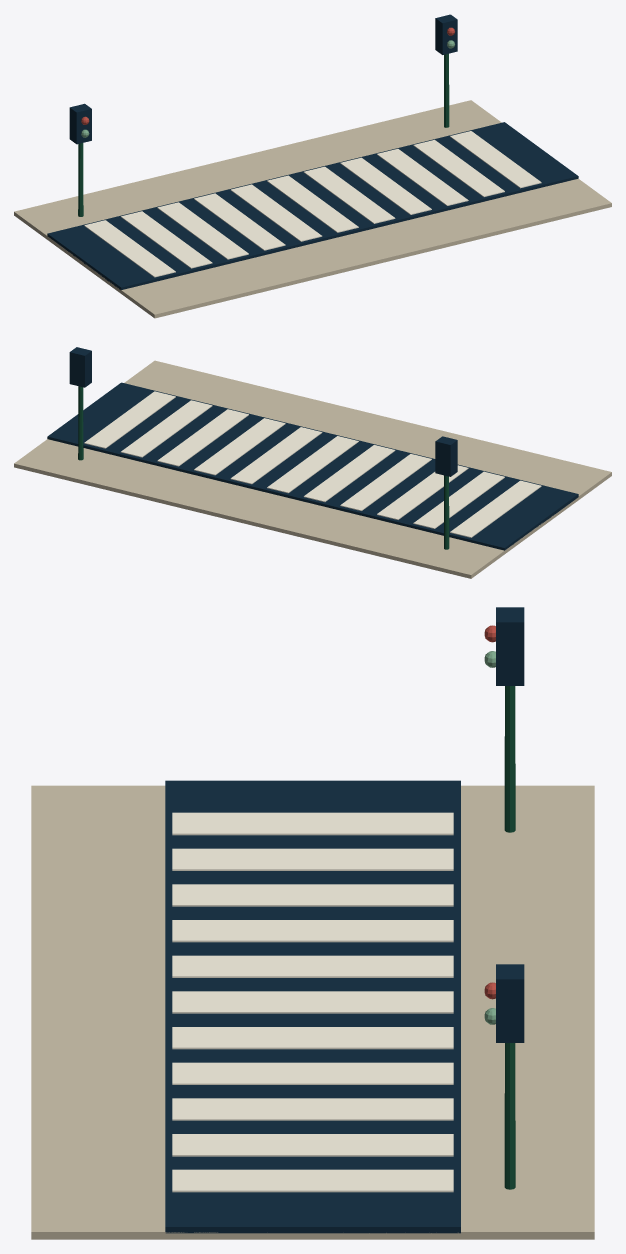
The model's file is crosswalk.glb.
3 views of the same model, one above another, from view 1: azimuth 30°, elevation 25°; view 2: azimuth 150°, elevation 25°; view 3: azimuth 270°, elevation 25° (orthographic). The views are drawn at different scales.
Visible parts, largest first — view 1: CrosswalkMesh; view 2: CrosswalkMesh; view 3: CrosswalkMesh.
Boxes of the visible parts, <box> form: CrosswalkMesh: <box>14,14,611,318</box>; CrosswalkMesh: <box>14,347,611,578</box>; CrosswalkMesh: <box>31,607,594,1239</box>.
Bounding box in the file's own units: 15 × 3.5 × 8.
Materials: 1 (1 with a texture image).
